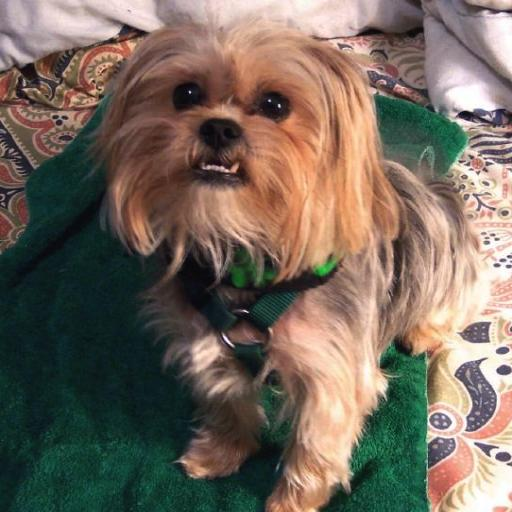dog_face: (120, 31, 362, 244)
